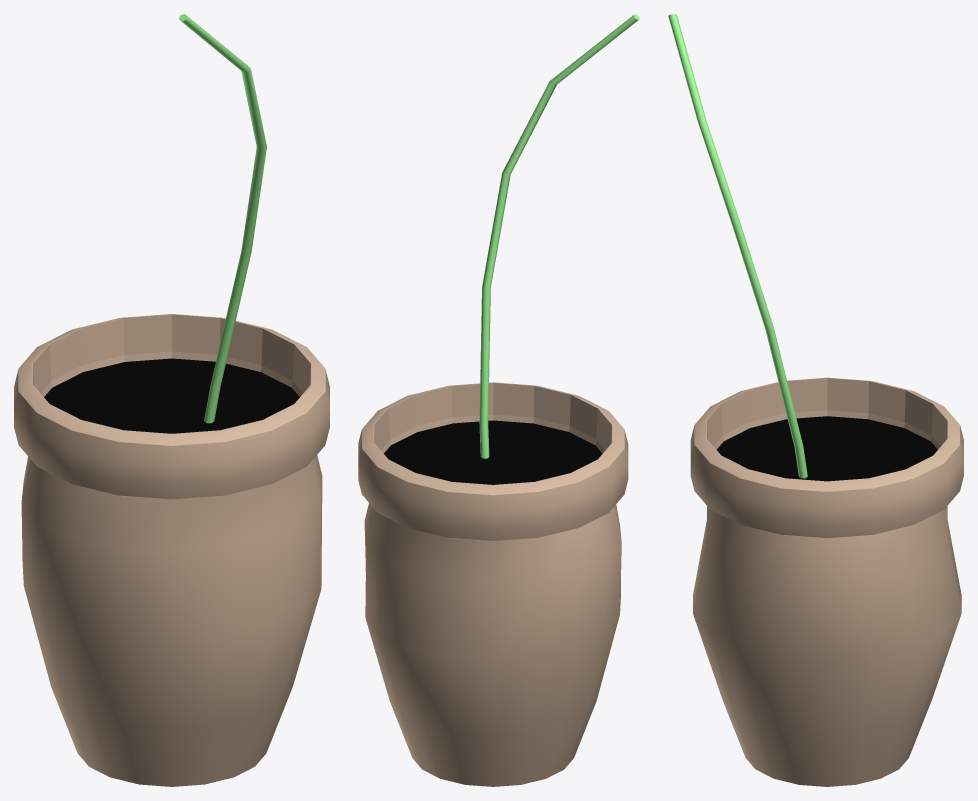
The model's file is Plant_Pot.FBX.
3 views of the same model, side by side, from view 1: azimuth 30°, elevation 25°; view 2: azimuth 150°, elevation 25°; view 3: azimuth 270°, elevation 25° (orthographic). The views are drawn at different scales.
Visible parts, largest first — view 1: Plant_Pot, Plant_Stem; view 2: Plant_Pot, Plant_Stem; view 3: Plant_Pot, Plant_Stem.
Part boxes in pixels (x1=…): Plant_Pot: x1=14, y1=314, x2=329, y2=786; Plant_Stem: x1=179, y1=14, x2=266, y2=423; Plant_Pot: x1=358, y1=382, x2=628, y2=786; Plant_Stem: x1=479, y1=14, x2=639, y2=458; Plant_Pot: x1=690, y1=377, x2=963, y2=786; Plant_Stem: x1=668, y1=14, x2=807, y2=478.
Bounding box in the file's own units: 49.73 × 140 × 53.02.
